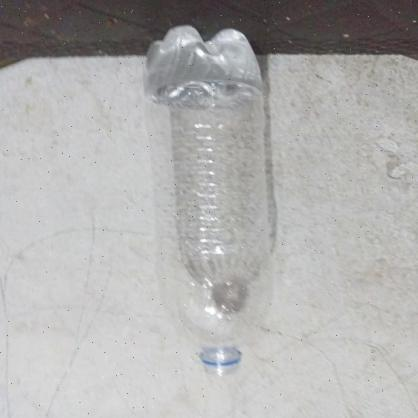bottle: (139, 18, 288, 387)
